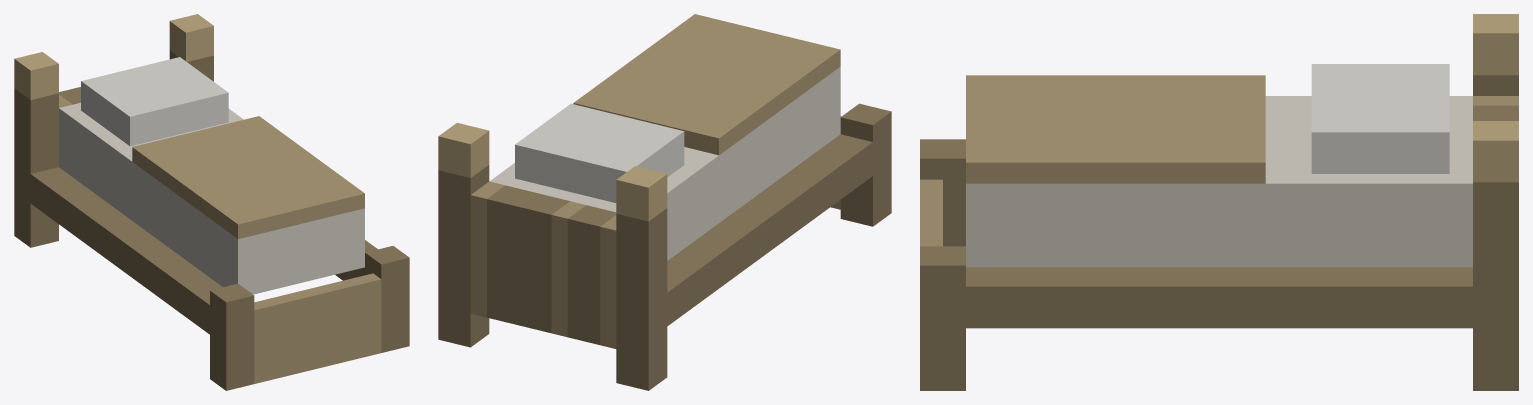
The model's file is litera_marinero_01.glb.
3 renders of one model, left to right at view 1: azimuth 30°, elevation 25°; view 2: azimuth 150°, elevation 25°; view 3: azimuth 270°, elevation 25°, orthographic. The views are drawn at different scales.
Visible parts, largest first — view 1: litera_marinero; view 2: litera_marinero; view 3: litera_marinero.
Part boxes in pixels (<box>): litera_marinero: <box>14,14,409,390</box>; litera_marinero: <box>438,14,891,390</box>; litera_marinero: <box>920,14,1518,390</box>.
Size of the model in its own units: 1 by 0.9231 by 2.
